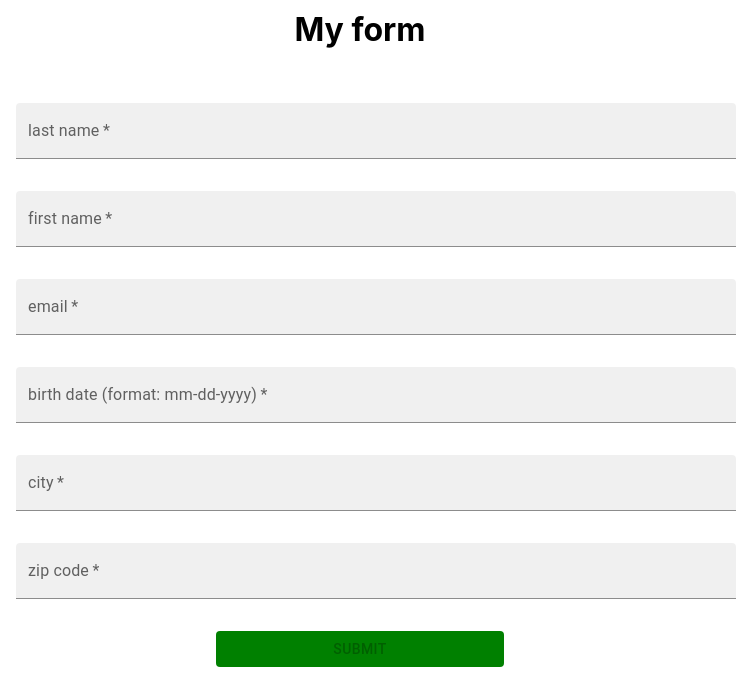
Scenario: App component › allow submit button when form is filled
Type "Riabi" into the field with test id "lastName" at (376, 131), box left=16, top=103, right=736, bottom=159
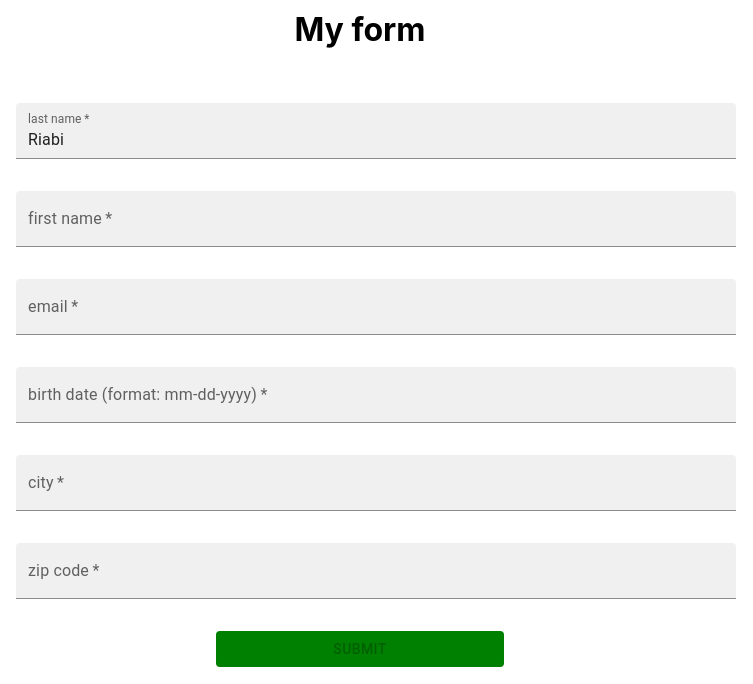
Type "Jasmine" into the field with test id "firstName" at (376, 219), box left=16, top=191, right=736, bottom=247
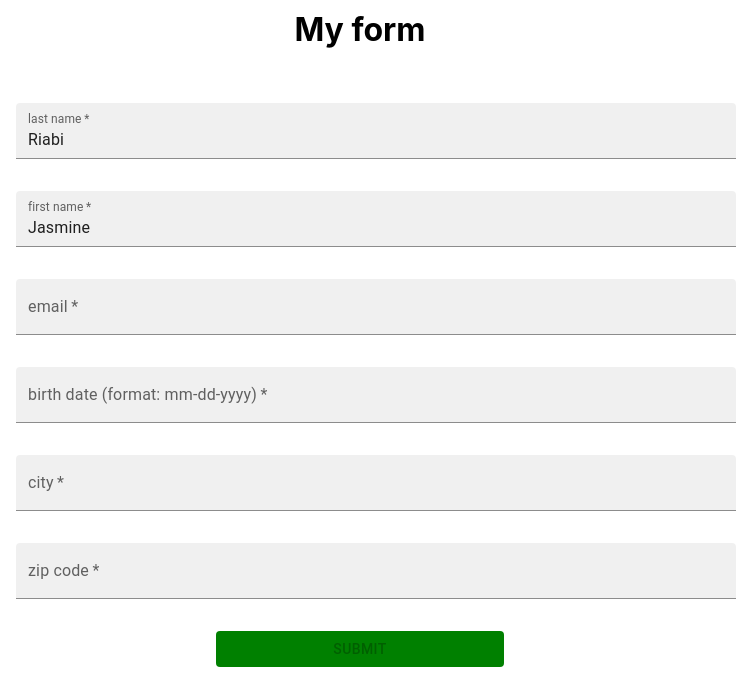
Type "jasmine@mail.com" into the field with test id "email" at (376, 307), box left=16, top=279, right=736, bottom=335
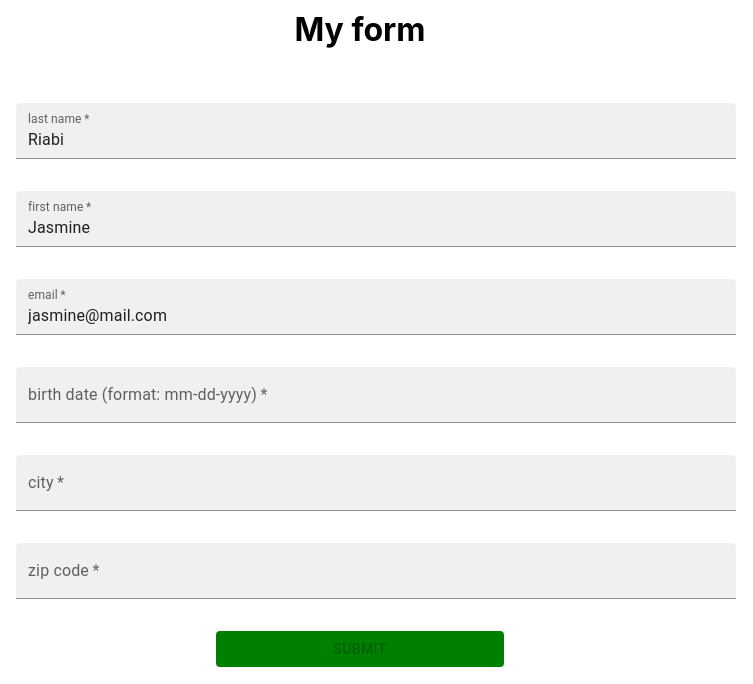
Type "29-07-1999" into the field with test id "birthDate" at (376, 395), box left=16, top=367, right=736, bottom=423
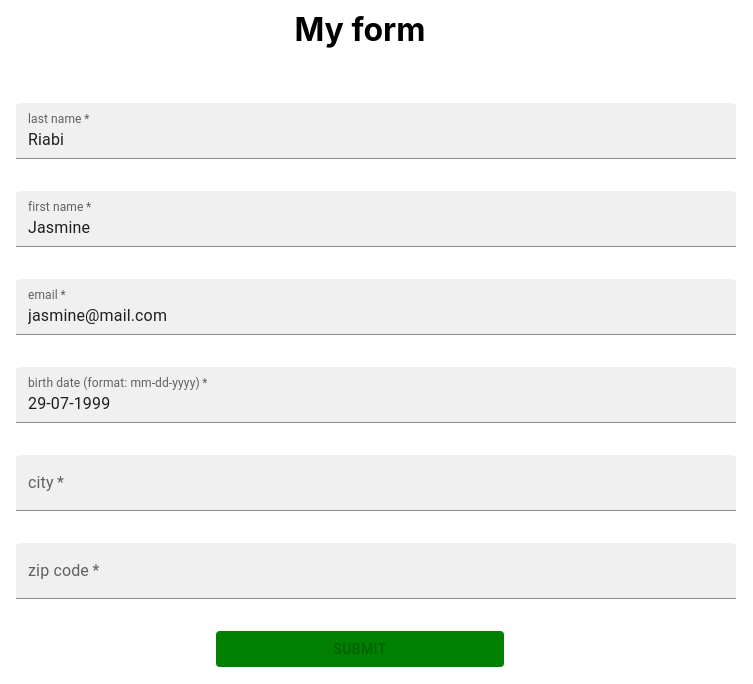
Type "Nice" into the field with test id "city" at (376, 483), box left=16, top=455, right=736, bottom=511
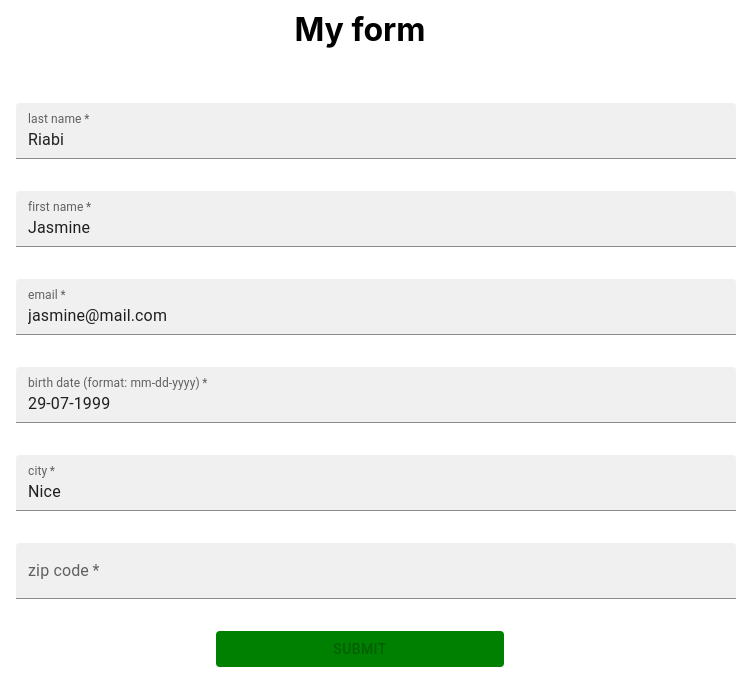
Type "06000" into the field with test id "zipCode" at (376, 571), box left=16, top=543, right=736, bottom=599
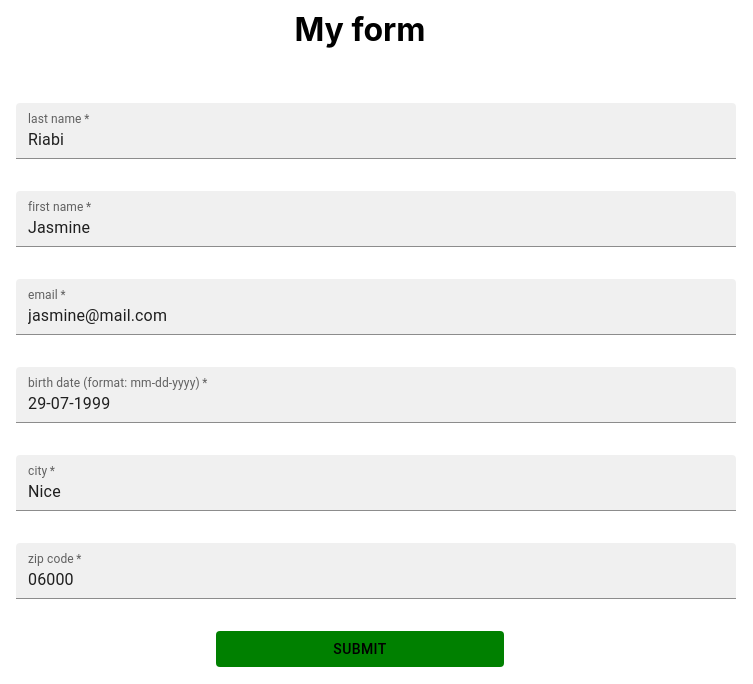
Expected: the button "Submit" is enabled, left=216, top=631, right=504, bottom=667
